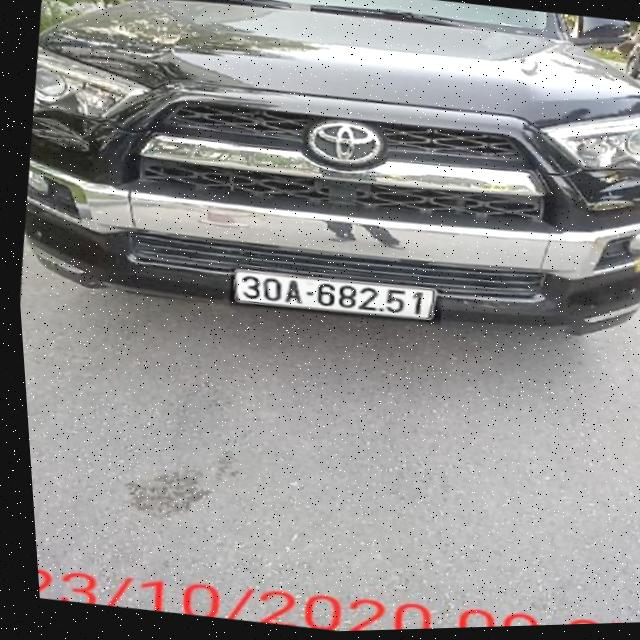car: (1, 0, 640, 379)
plate: (222, 252, 447, 336)
